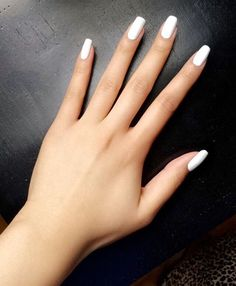nails: (184, 144, 212, 173), (73, 35, 99, 66), (123, 12, 148, 43), (156, 12, 180, 41), (190, 43, 213, 70)
